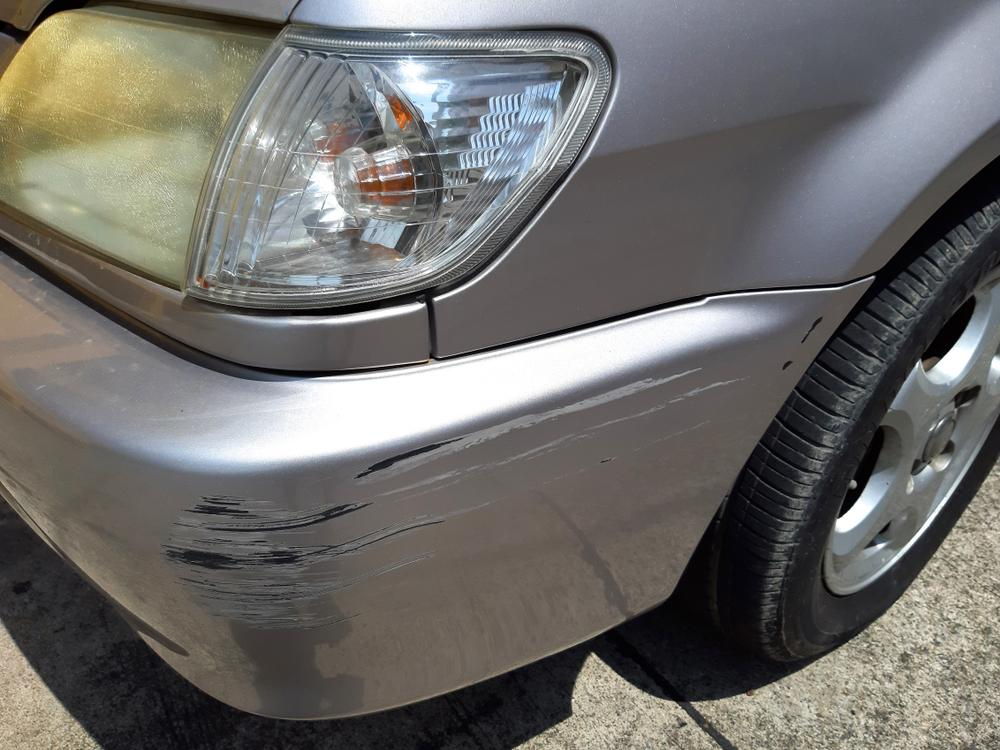scratch: (159, 314, 839, 632)
